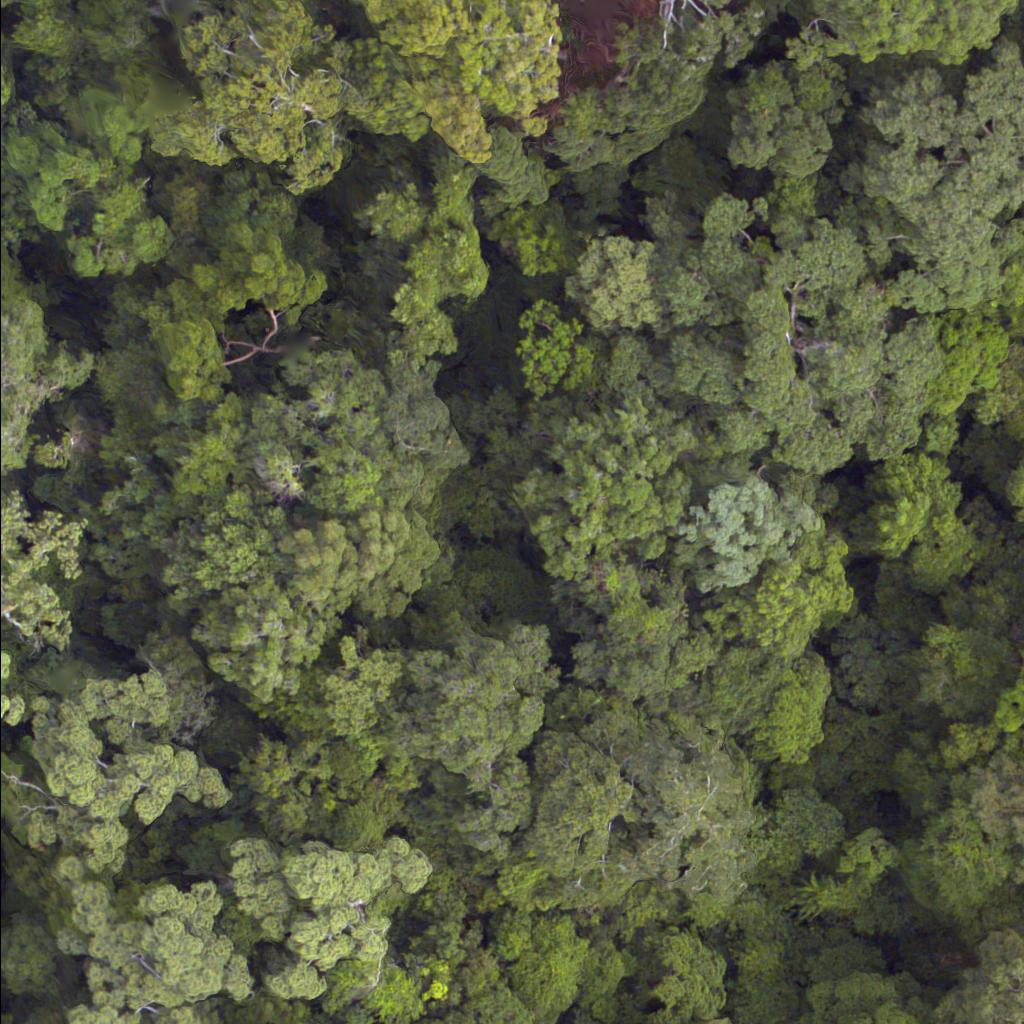crown: (663, 183, 943, 481), (521, 696, 766, 921), (857, 45, 1023, 331), (5, 674, 227, 876), (385, 624, 568, 858), (129, 216, 329, 404), (160, 0, 353, 186), (213, 828, 428, 994), (345, 0, 579, 144), (496, 411, 679, 583), (45, 873, 247, 1023), (274, 505, 446, 629), (706, 535, 867, 663), (717, 57, 853, 180), (558, 229, 668, 334), (938, 919, 1023, 1023), (514, 299, 596, 402), (964, 749, 1023, 880), (1006, 622, 1023, 725), (0, 645, 16, 734), (283, 1005, 339, 1023), (709, 1013, 754, 1023)
